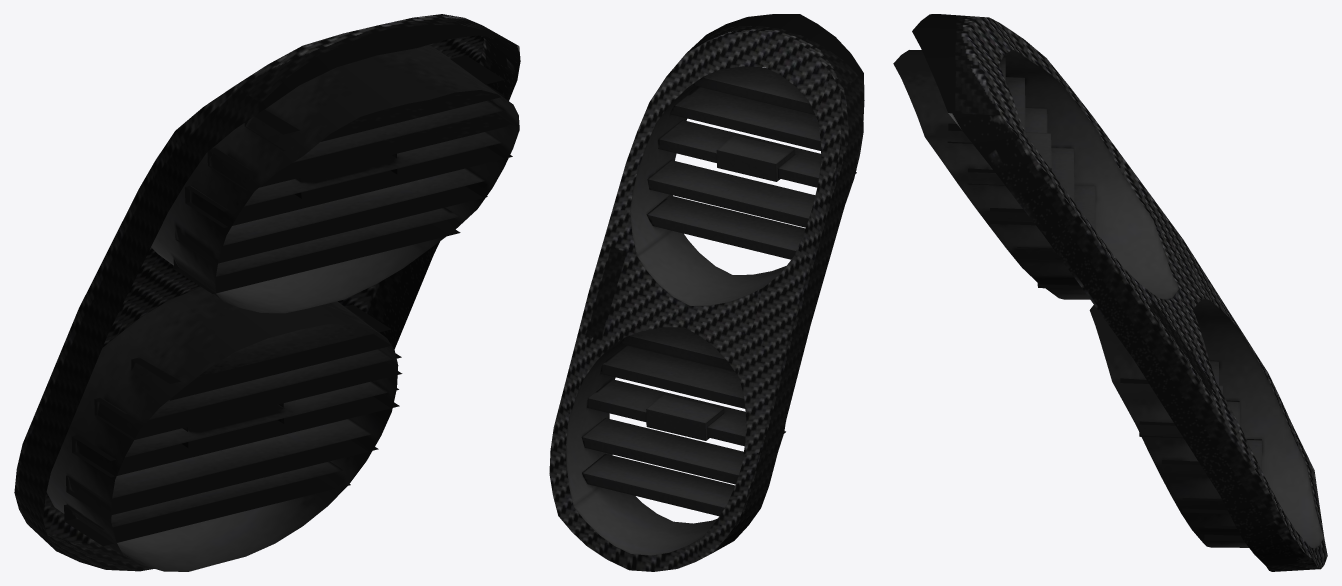
The picture shows the model from 3 angles, left to right: view 1: azimuth 30°, elevation 25°; view 2: azimuth 150°, elevation 25°; view 3: azimuth 270°, elevation 25°; orthographic projection. The views are drawn at different scales.
Visible parts, largest first — view 1: Object516; view 2: Object516; view 3: Object516.
Boxes of the visible parts, x1,y1,x2,y2 form: Object516: (14,14,520,571); Object516: (549,14,864,571); Object516: (893,14,1327,571).
Size of the model in its own units: 35.81 by 72.9 by 54.47.
